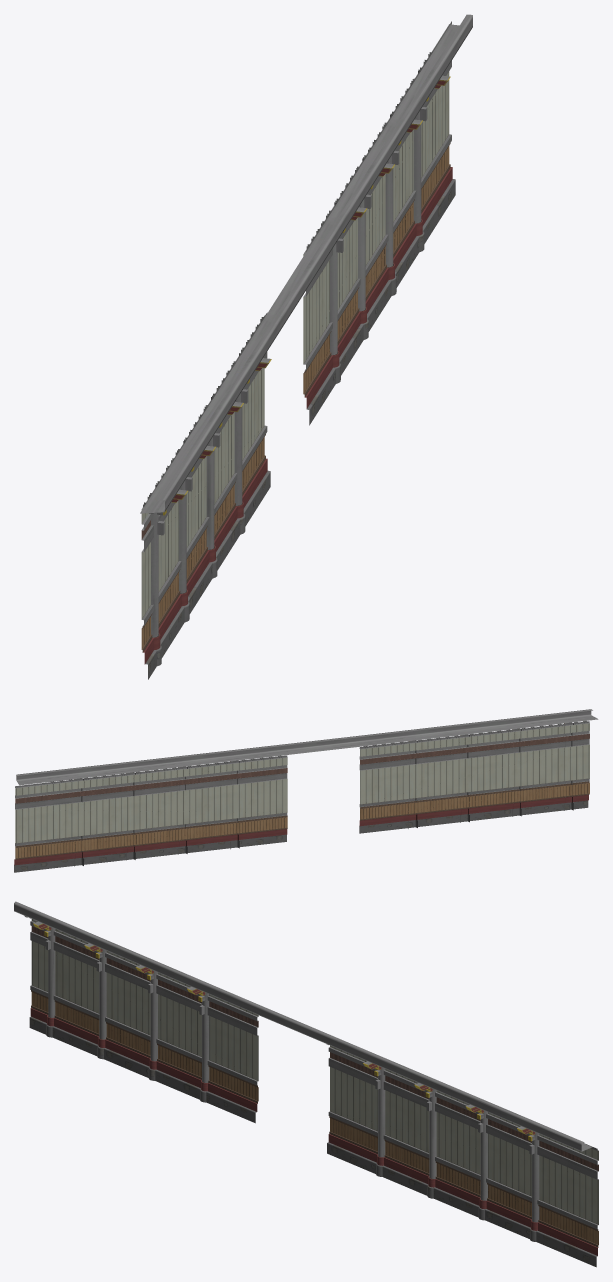
Rendered from SM_ENV_LKNVLD_WallSet_BendPlus.FBX.
3 renders of one model, top to bottom at view 1: azimuth 30°, elevation 25°; view 2: azimuth 150°, elevation 25°; view 3: azimuth 270°, elevation 25°, orthographic. The views are drawn at different scales.
Visible parts, largest first — view 1: SM_ENV_LKNVLD_WallSet_BendPlus; view 2: SM_ENV_LKNVLD_WallSet_BendPlus; view 3: SM_ENV_LKNVLD_WallSet_BendPlus.
Boxes of the visible parts, x1=… form: SM_ENV_LKNVLD_WallSet_BendPlus: x1=140, y1=14, x2=472, y2=679; SM_ENV_LKNVLD_WallSet_BendPlus: x1=14, y1=709, x2=598, y2=872; SM_ENV_LKNVLD_WallSet_BendPlus: x1=14, y1=901, x2=598, y2=1267.
Size of the model in its own units: 2627 by 628 by 2634.
